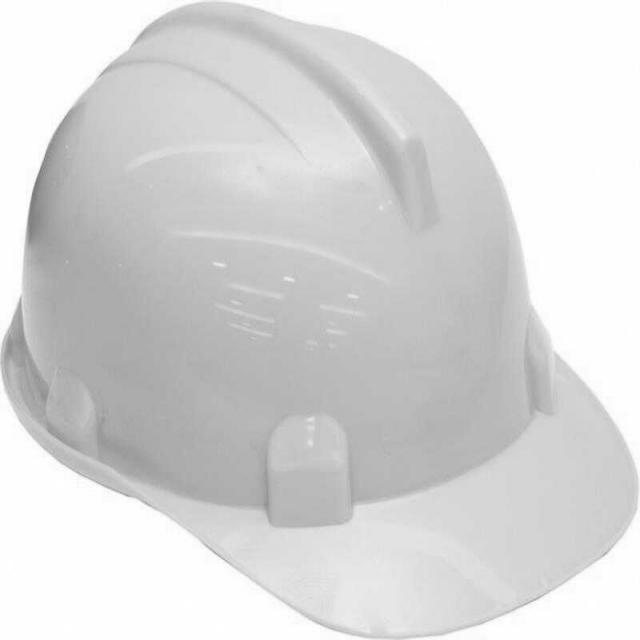safety_helmet: (0, 2, 640, 640)
